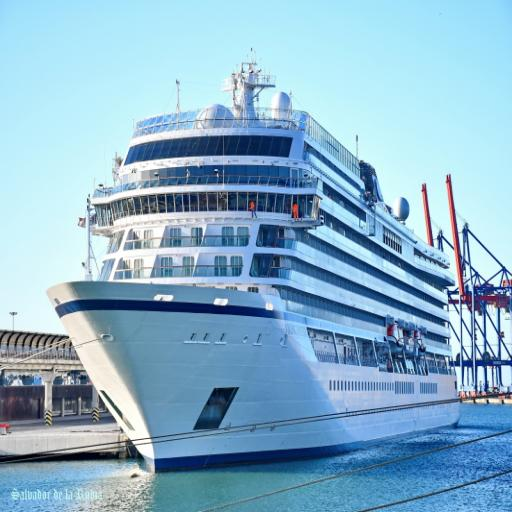cruises: (44, 49, 466, 478)
